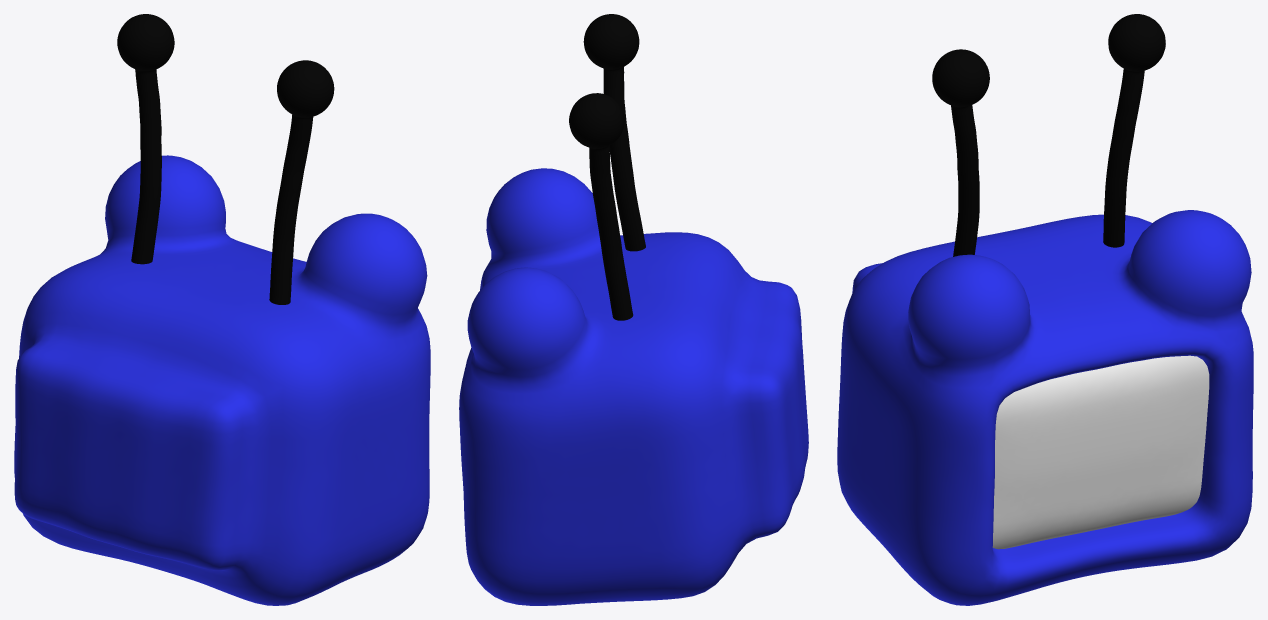
The model's file is TVman.fbx.
The picture shows the model from 3 angles, left to right: view 1: azimuth 30°, elevation 25°; view 2: azimuth 150°, elevation 25°; view 3: azimuth 270°, elevation 25°; orthographic projection. The views are drawn at different scales.
Parts seen in each view (by area): view 1: Retopo_Layer_1.024, Retopo_Layer_18.001; view 2: Retopo_Layer_1.024, Retopo_Layer_18.001; view 3: Retopo_Layer_1.024, Retopo_Layer_2.018, Retopo_Layer_18.001.
Part boxes in pixels (x1,y1,x2,y2): Retopo_Layer_1.024: (14,155,430,605); Retopo_Layer_18.001: (117,14,334,304); Retopo_Layer_1.024: (459,168,808,605); Retopo_Layer_18.001: (569,14,645,320); Retopo_Layer_1.024: (837,210,1253,605); Retopo_Layer_2.018: (992,355,1209,549); Retopo_Layer_18.001: (932,14,1165,256).
Bounding box in the file's own units: 813 × 1109 × 812.
